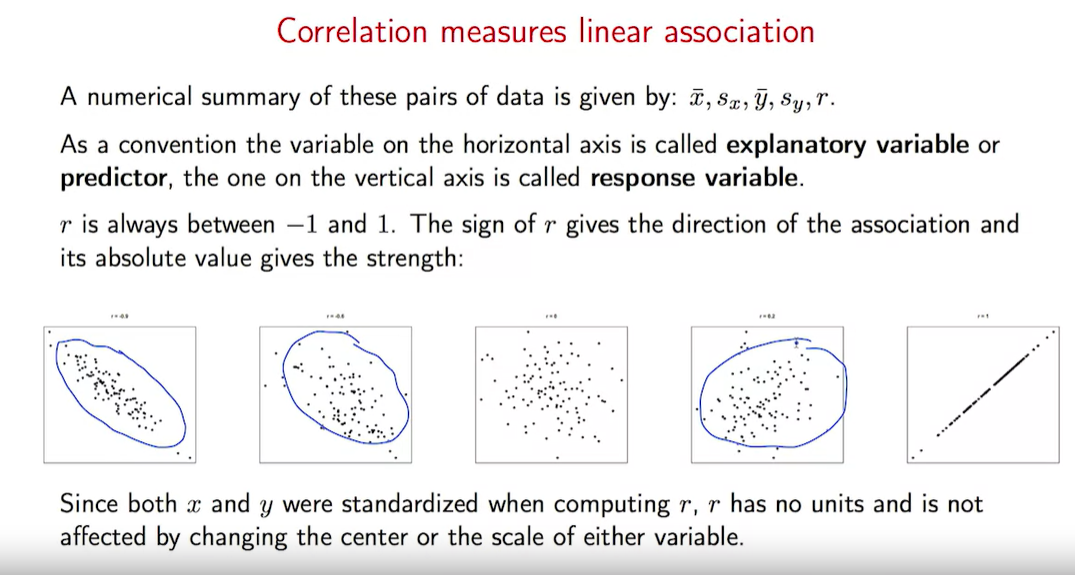figure: (34, 307, 207, 470), (246, 309, 417, 470), (463, 313, 635, 470), (901, 309, 1064, 474), (687, 311, 848, 470)
text: (57, 212, 1022, 273), (57, 486, 983, 548), (59, 129, 1003, 189), (58, 83, 837, 117), (274, 13, 817, 49)
